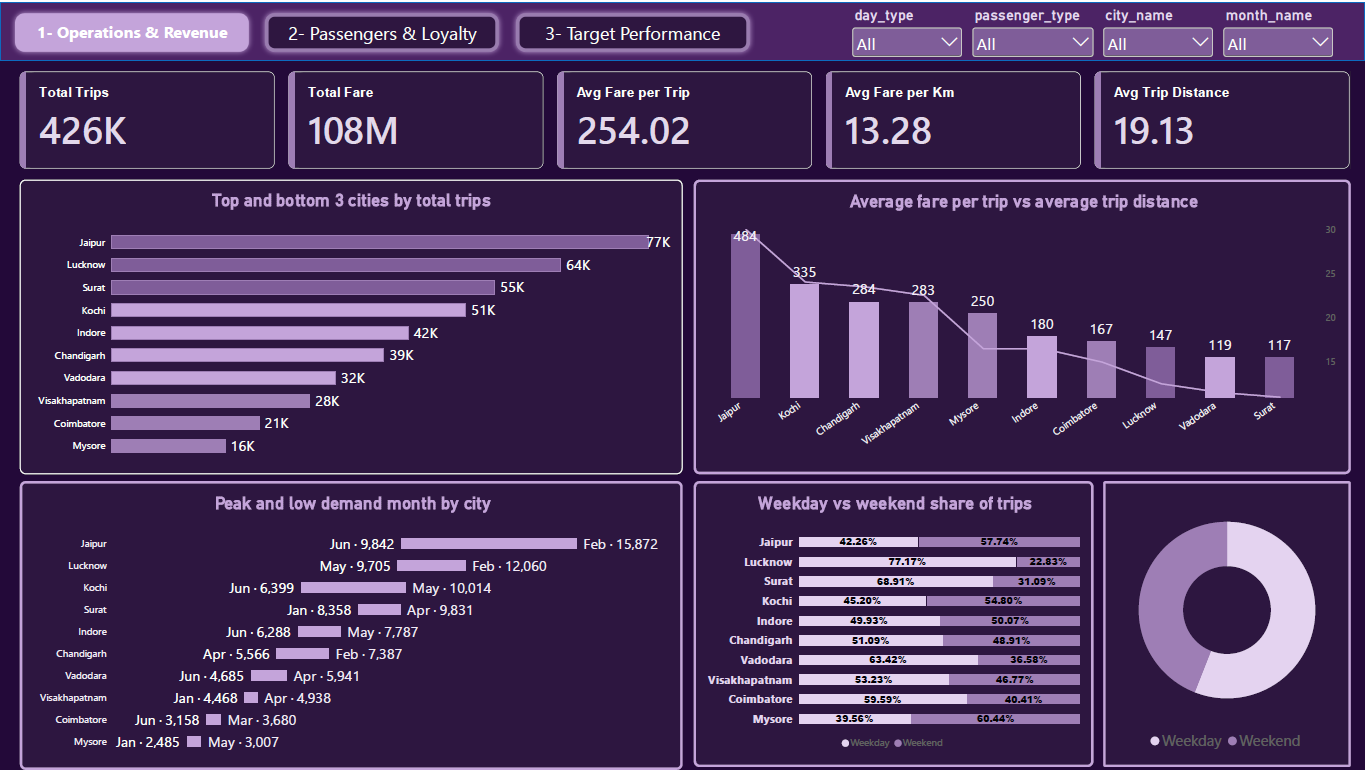

The page's visual inventory and layout, read from the dashboard file:
{"tool":"powerbi","page":{"name":"1- Operations & Revenue","canvas":[1920,1080],"ordinal":0},"visuals":[{"type":"lineStackedColumnComboChart","title":"Average fare per trip vs average trip distance","fields":{"Category":["dim_city.city_name"],"Y":["DAX.Avg Fare per Trip"],"Y2":["DAX.Avg Trip Distance"]},"box":[976,250,924,414],"z":0},{"type":"clusteredBarChart","title":"Top and bottom 3 cities by total trips","fields":{"Category":["dim_city.city_name"],"Y":["DAX.Total Trips"]},"box":[28,250,932,414],"z":1000},{"type":"barChart","title":"Peak and low demand month by city","fields":{"Category":["dim_city.city_name"],"Y":["DAX.Low Trips","DAX.Trip Range","DAX.Label Pad"]},"box":[28,674,932,406],"z":2000},{"type":"hundredPercentStackedBarChart","title":"Weekday vs weekend share of trips","fields":{"Category":["dim_city.city_name"],"Series":["dim_date.day_type"],"Y":["DAX.Total Trips"]},"box":[976,674,562,402],"z":3000},{"type":"shape","box":[0,0,1920,82],"z":4000},{"type":"cardVisual","fields":{"Data":["DAX.Total Trips","DAX.Total Fare","DAX.Avg Fare per Trip","DAX.Avg Fare per Km","DAX.Avg Trip Distance"]},"box":[28,98,1872,136],"z":5000},{"type":"donutChart","fields":{"Category":["dim_date.day_type"],"Y":["DAX.Total Trips"]},"box":[1552,674,348,402],"z":6000},{"type":"pageNavigator","box":[14,8,1048,70],"z":7000},{"type":"slicer","fields":{"Values":["dim_date.month_name"]},"box":[1716,6,164,74],"z":8000},{"type":"slicer","fields":{"Values":["dim_city.city_name"]},"box":[1547.3,6,164,74],"z":9000},{"type":"slicer","fields":{"Values":["fact_trips.passenger_type"]},"box":[1362.7,6,180,74],"z":10000},{"type":"slicer","fields":{"Values":["dim_date.day_type"]},"box":[1194,6,164,74],"z":11000}]}

Visuals, with their boxes in screenshot pixels (x1, y1, x2, y2), scaled from the page's 1920x1080 canvas onto the 1367x775 screenshot:
"Average fare per trip vs average trip distance" lineStackedColumnComboChart: 695:179:1353:476
"Top and bottom 3 cities by total trips" clusteredBarChart: 20:179:684:476
"Peak and low demand month by city" barChart: 20:484:684:774
"Weekday vs weekend share of trips" hundredPercentStackedBarChart: 695:484:1095:772
shape: 0:0:1366:59
cardVisual - DAX.Total Trips x DAX.Total Fare: 20:70:1353:168
donutChart - dim_date.day_type x DAX.Total Trips: 1105:484:1353:772
pageNavigator: 10:6:756:56
slicer - dim_date.month_name: 1222:4:1339:57
slicer - dim_city.city_name: 1102:4:1218:57
slicer - fact_trips.passenger_type: 970:4:1098:57
slicer - dim_date.day_type: 850:4:967:57
